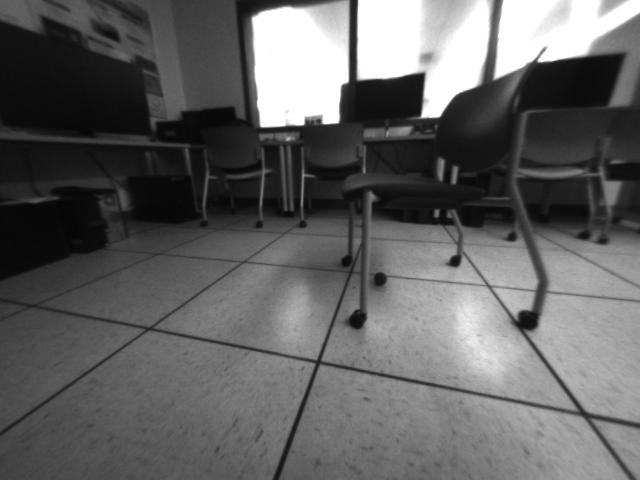dogtoy: (369, 264, 395, 291)
